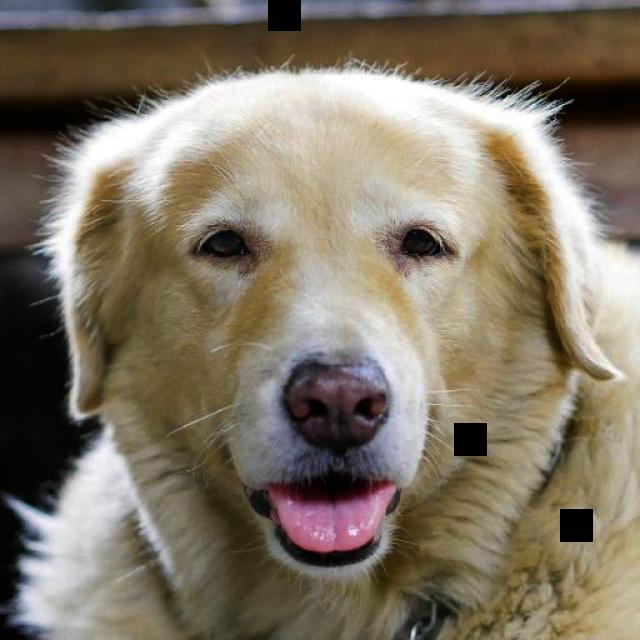adult_dog: (13, 59, 640, 640)
